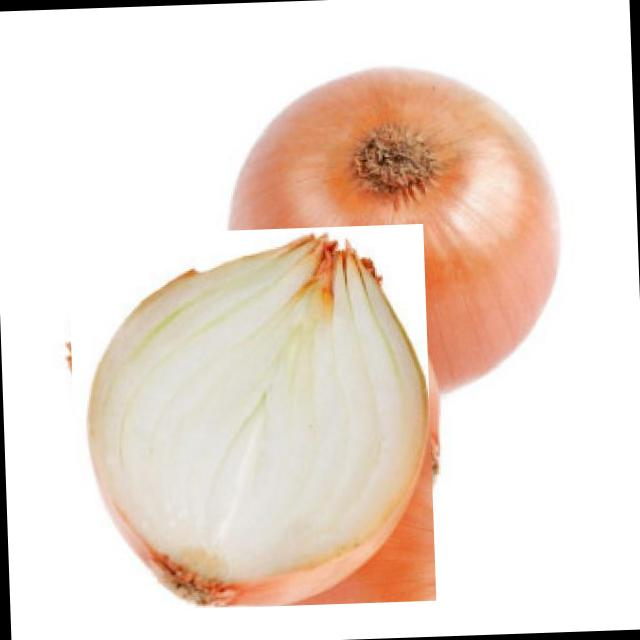Onion: (61, 228, 442, 608), (236, 56, 545, 374)
